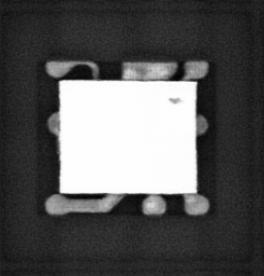DIE_INK: (168, 95, 182, 105)
